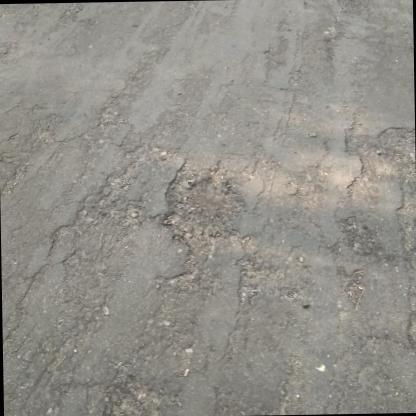pothole: (160, 164, 253, 256), (101, 374, 179, 416), (358, 121, 415, 176)
